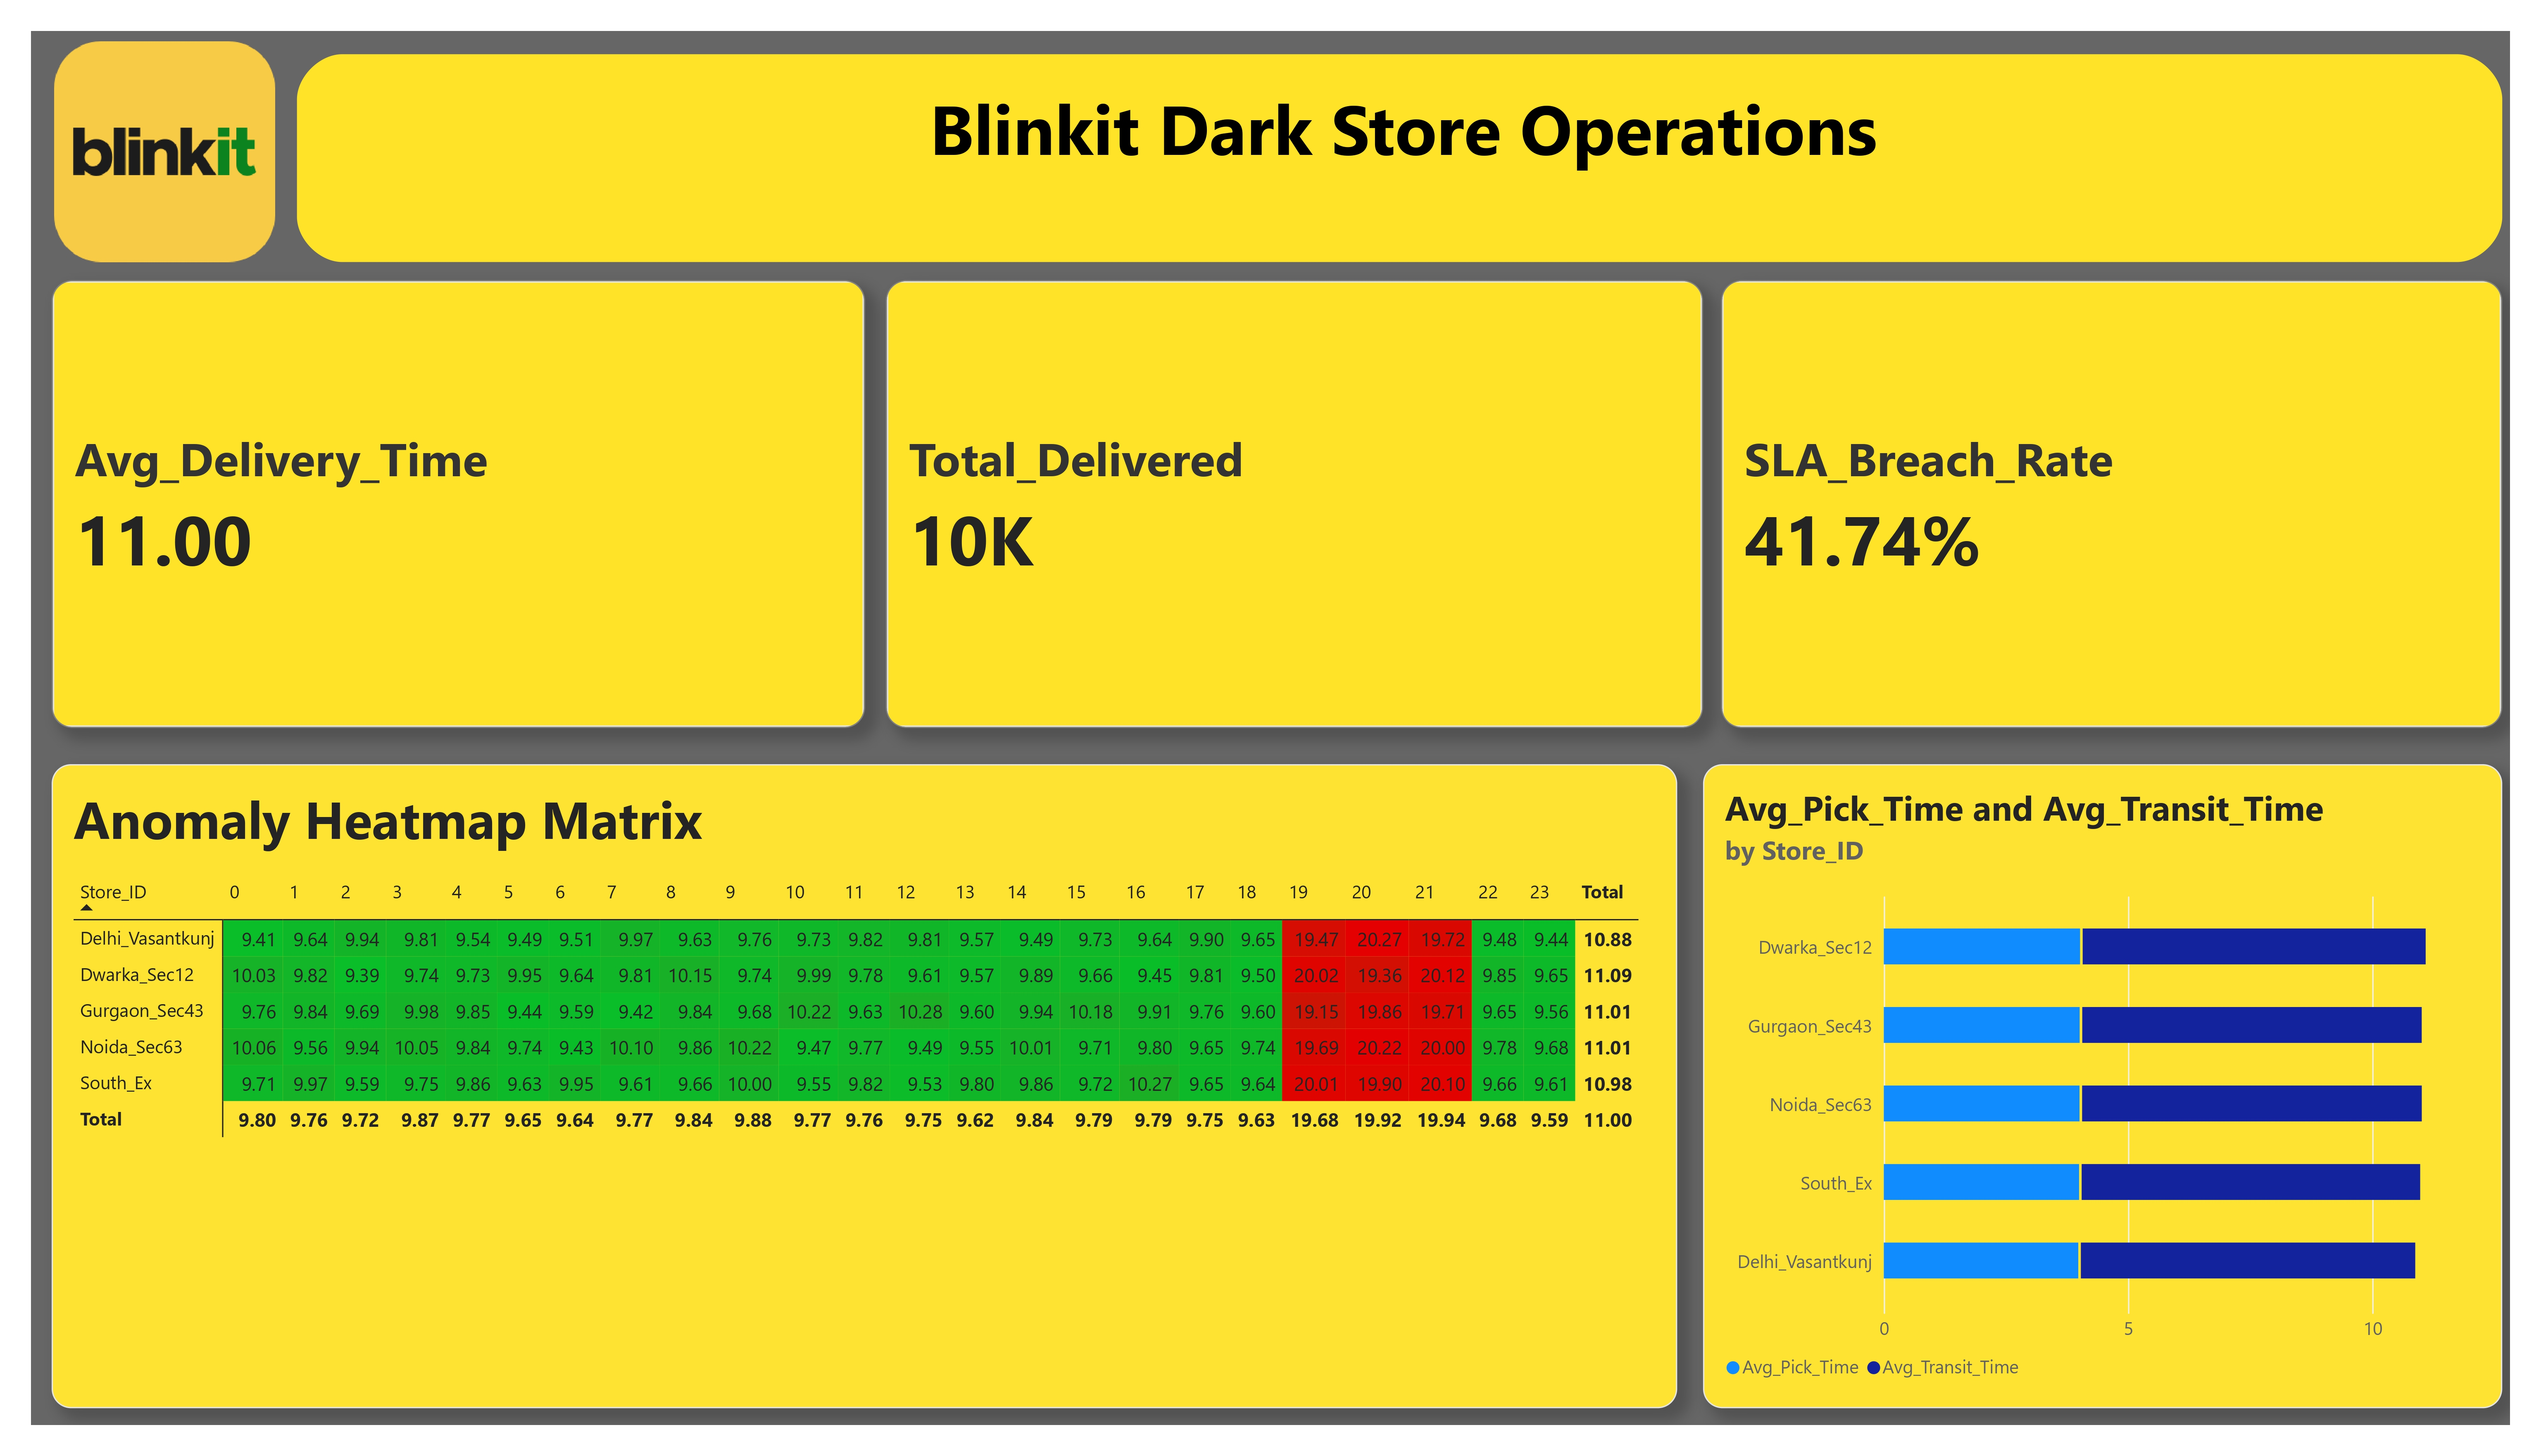

This screenshot's page, from the dashboard's own definition file:
{"tool":"powerbi","page":{"name":"Page 1","canvas":[1920,1080],"ordinal":0},"visuals":[{"type":"cardVisual","fields":{"Data":["blinkit_operations deliveries.Avg_Delivery_Time"]},"box":[16.3,193.5,629.3,346.2],"z":0},{"type":"cardVisual","fields":{"Data":["blinkit_operations orders.Total_Delivered"]},"box":[661.9,193.5,633.3,346.2],"z":1000},{"type":"cardVisual","fields":{"Data":["blinkit_operations deliveries.SLA_Breach_Rate"]},"box":[1309.5,193.5,604.8,346.2],"z":2000},{"type":"pivotTable","title":"Anomaly Heatmap Matrix","fields":{"Columns":["blinkit_operations orders.Order_Hour"],"Rows":["blinkit_operations orders.Store_ID"],"Values":["blinkit_operations deliveries.Avg_Delivery_Time"]},"box":[16.3,568.2,1258.6,498.9],"z":3000},{"type":"barChart","fields":{"Category":["blinkit_operations orders.Store_ID"],"Y":["blinkit_operations deliveries.Avg_Pick_Time","blinkit_operations deliveries.Avg_Transit_Time"]},"box":[1295.2,568.2,619.1,498.9],"z":4000},{"type":"shape","box":[205.7,18.3,1708.6,160.9],"z":5000},{"type":"textbox","box":[226.2,38,1673.9,126.7],"z":6000},{"type":"image","box":[16.3,8.1,175.1,171.1],"z":7001}]}

Visuals, with their boxes in screenshot pixels (x1, y1, x2, y2):
cardVisual - blinkit_operations deliveries.Avg_Delivery_Time: box=[28, 272, 849, 724]
cardVisual - blinkit_operations orders.Total_Delivered: box=[871, 272, 1697, 724]
cardVisual - blinkit_operations deliveries.SLA_Breach_Rate: box=[1716, 272, 2505, 724]
"Anomaly Heatmap Matrix" pivotTable: box=[28, 761, 1670, 1412]
barChart - blinkit_operations orders.Store_ID x blinkit_operations deliveries.Avg_Pick_Time: box=[1697, 761, 2505, 1412]
shape: box=[275, 44, 2505, 254]
textbox: box=[302, 69, 2486, 235]
image: box=[28, 31, 257, 254]
